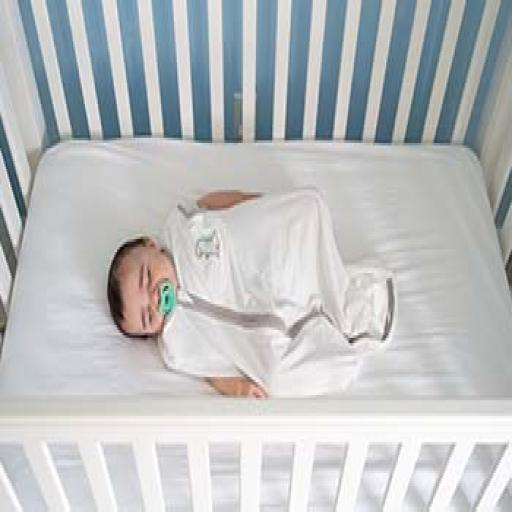baby: (109, 188, 394, 397)
crib: (0, 0, 511, 356)
